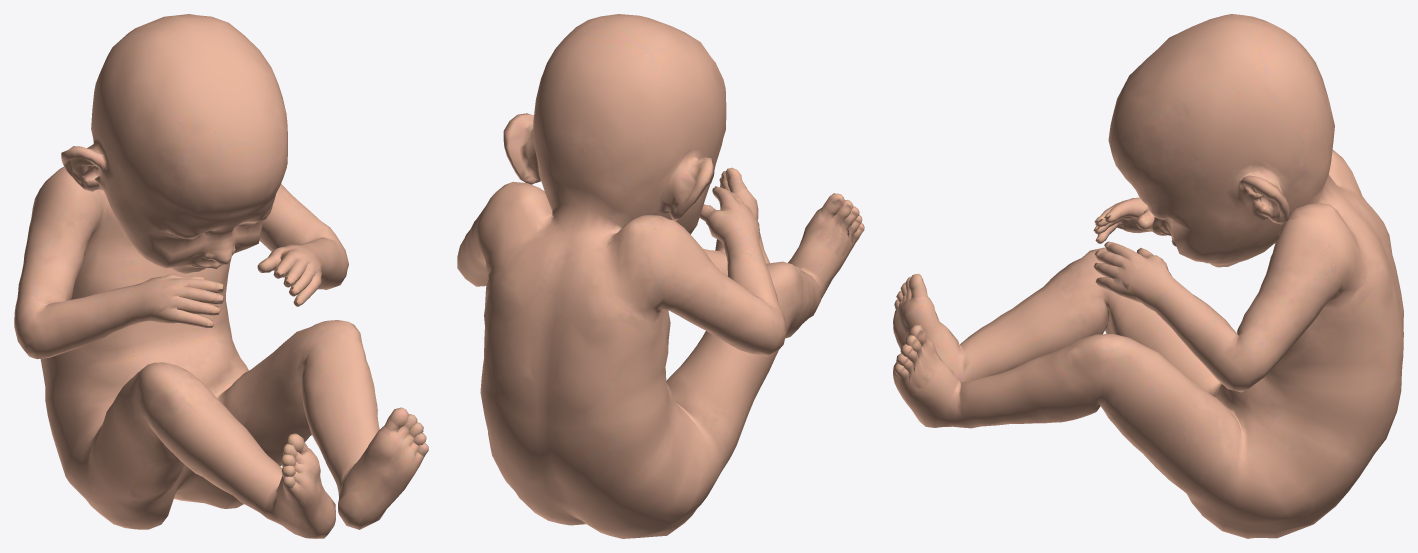
The picture shows the model from 3 angles, left to right: view 1: azimuth 30°, elevation 25°; view 2: azimuth 150°, elevation 25°; view 3: azimuth 270°, elevation 25°; orthographic projection.
Parts seen in each view (by area): view 1: Baby; view 2: Baby; view 3: Baby.
Part boxes in pixels (box(x1,y1,x2,y2)): Baby: box(14, 14, 428, 538); Baby: box(457, 14, 864, 538); Baby: box(893, 14, 1403, 538).
Size of the model in its own units: 0.2624 by 0.3859 by 0.3624.
1 material, 1 textured.
